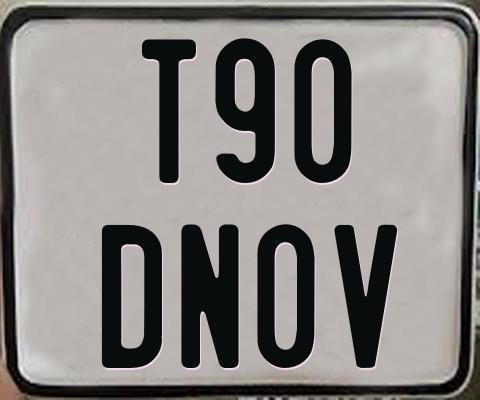0: (255, 222, 314, 372), (294, 36, 353, 181)
9: (213, 37, 277, 187)
D: (102, 223, 166, 368)
N: (179, 221, 241, 367)
T: (139, 36, 199, 184)
V: (334, 225, 397, 369)
